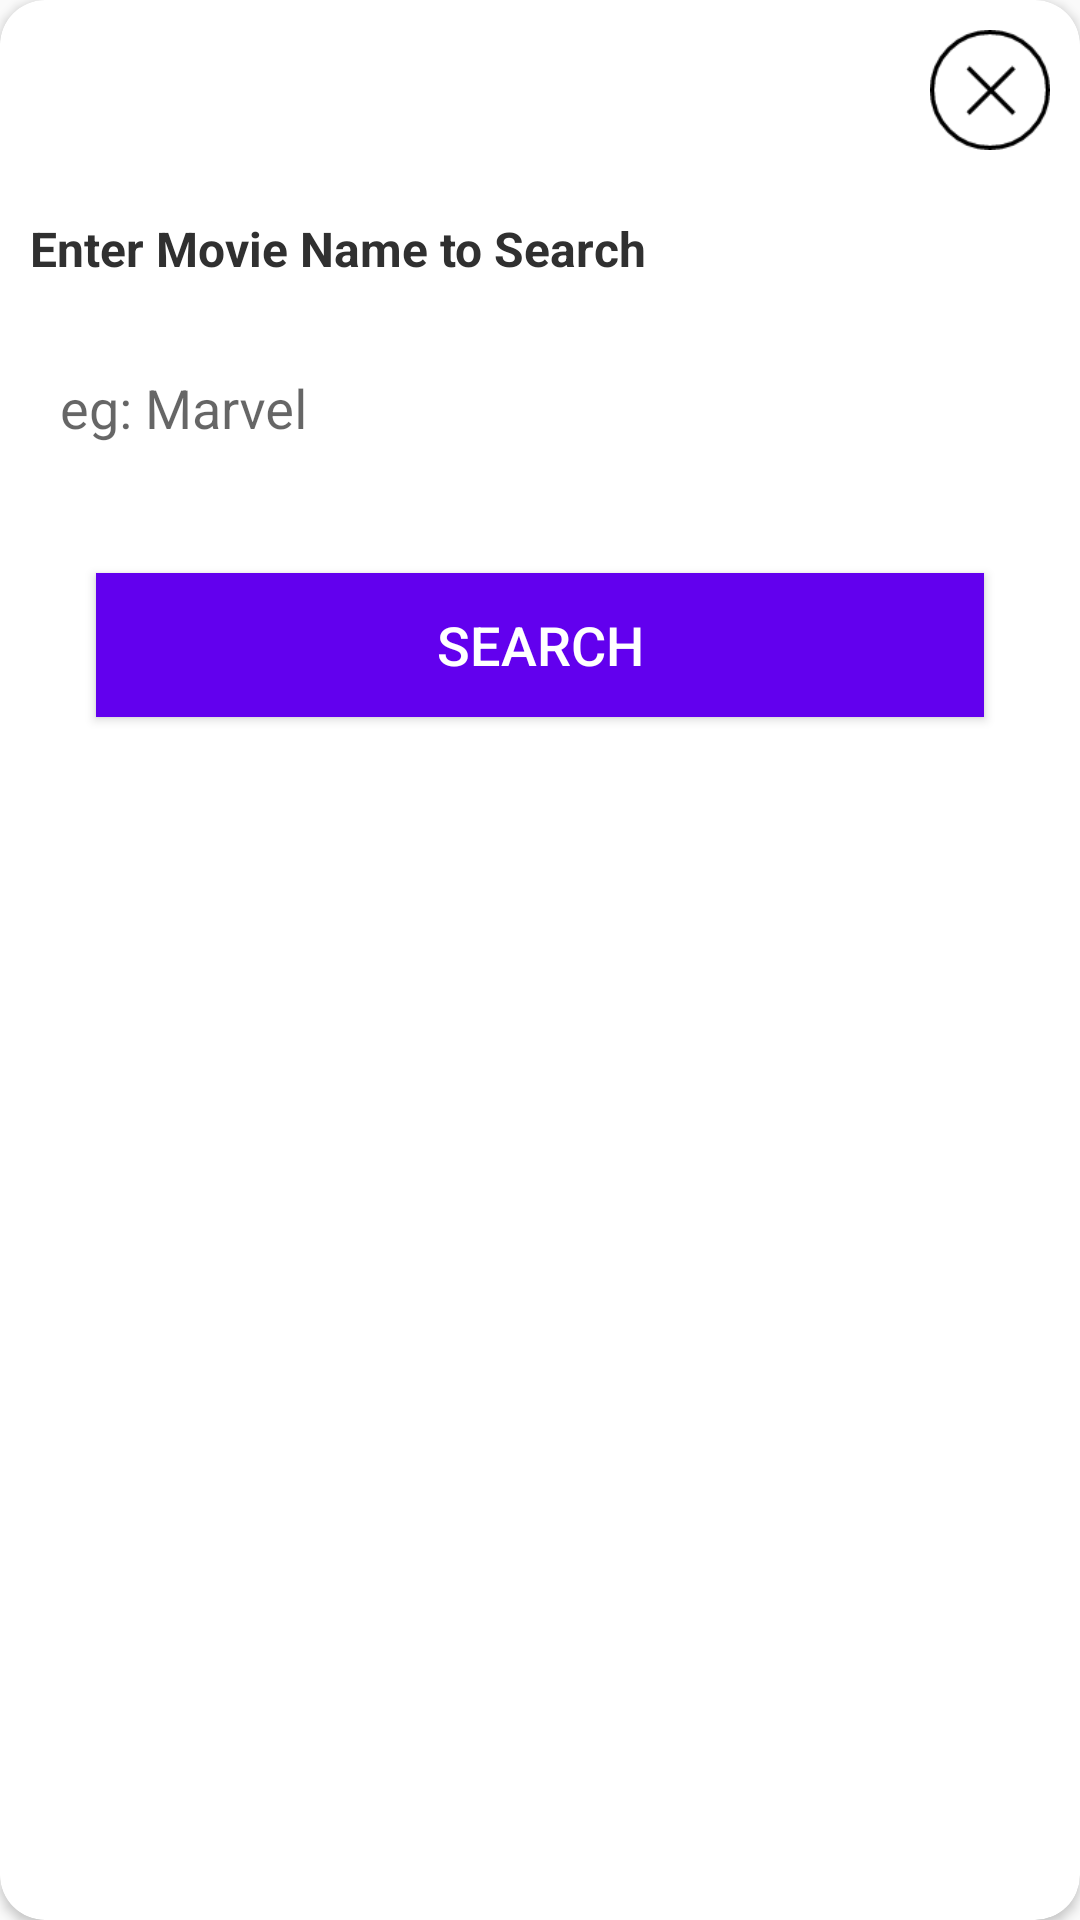

Screen size 1080 x 1920. Icon name, then its center in pixels as (x=x, y=y):
cross: (x=990, y=90)
